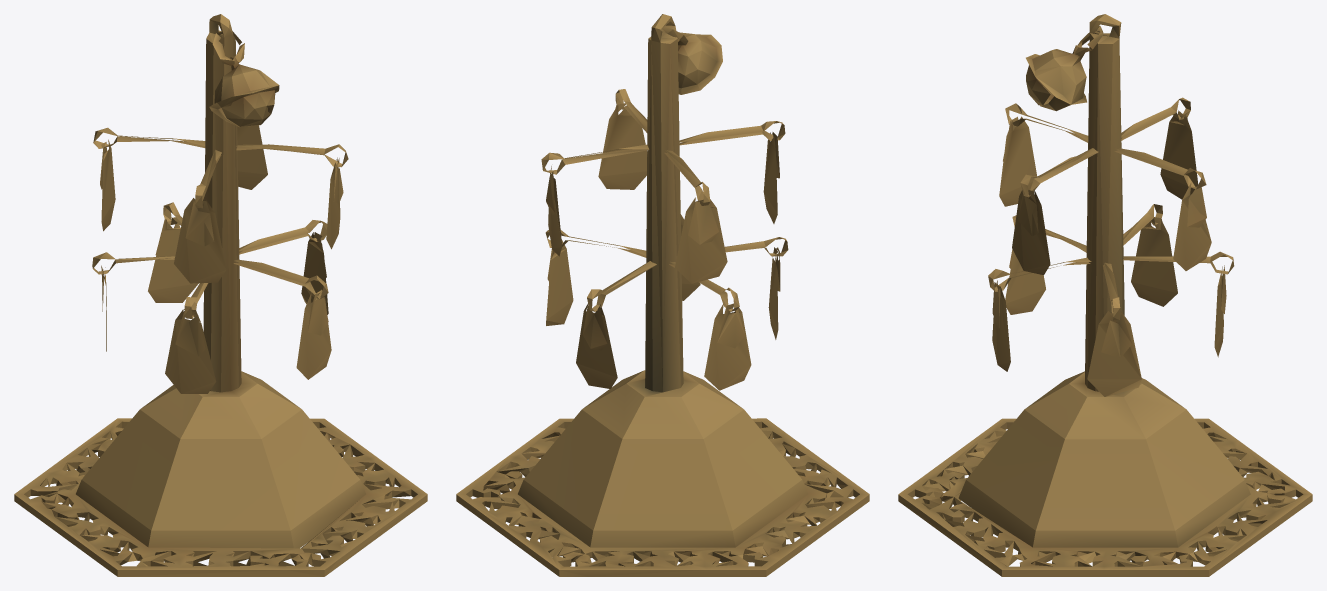
The model's file is horse_harness_ornament_0435af98.glb.
3 views of the same model, side by side, from view 1: azimuth 30°, elevation 25°; view 2: azimuth 150°, elevation 25°; view 3: azimuth 270°, elevation 25° (orthographic).
Parts seen in each view (by area): view 1: SM_24TR0002_low_gold_high_0; view 2: SM_24TR0002_low_gold_high_0; view 3: SM_24TR0002_low_gold_high_0.
Boxes of the visible parts, x1,y1,x2,y2 form: SM_24TR0002_low_gold_high_0: [14, 14, 427, 576]; SM_24TR0002_low_gold_high_0: [456, 14, 869, 576]; SM_24TR0002_low_gold_high_0: [898, 14, 1312, 576].
Size of the model in its own units: 0.07 by 0.1051 by 0.081.
